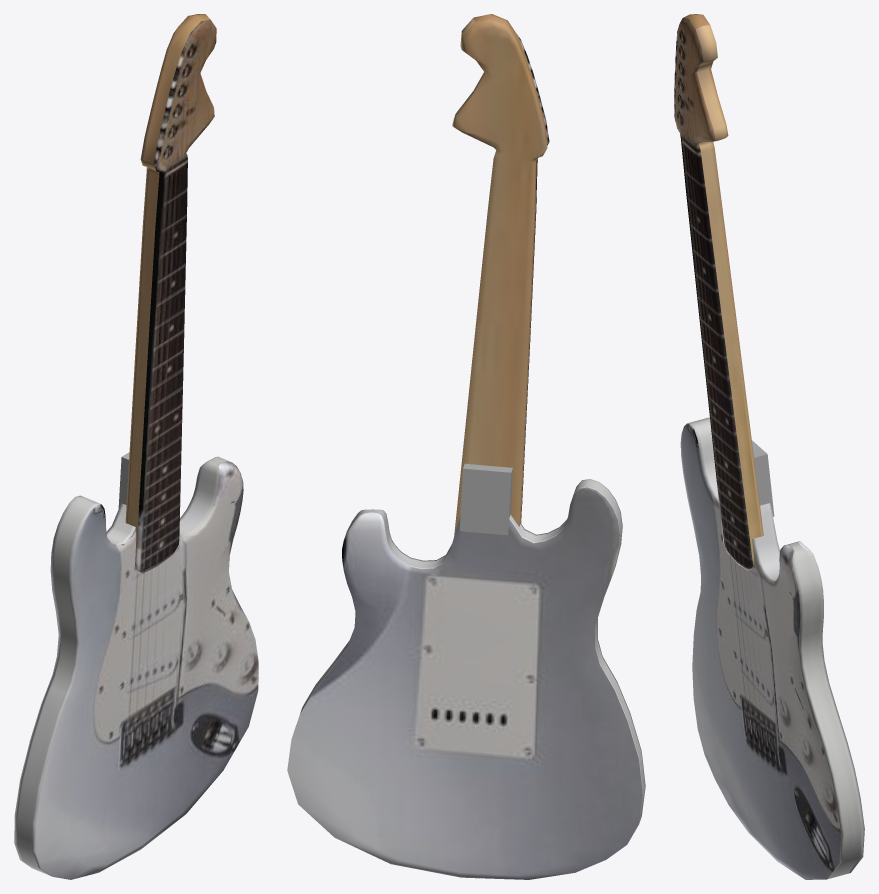
The model's file is guitar.fbx.
3 views of the same model, side by side, from view 1: azimuth 30°, elevation 25°; view 2: azimuth 150°, elevation 25°; view 3: azimuth 270°, elevation 25° (orthographic). The views are drawn at different scales.
Visible parts, largest first — view 1: guitar_GEO; view 2: guitar_GEO; view 3: guitar_GEO.
Boxes of the visible parts, box(x1,y1,x2,y2) form: guitar_GEO: box(14, 14, 258, 879); guitar_GEO: box(287, 14, 645, 879); guitar_GEO: box(674, 14, 864, 879).
Size of the model in its own units: 28.02 by 75.19 by 15.25.
Materials: 2 (1 with a texture image).
